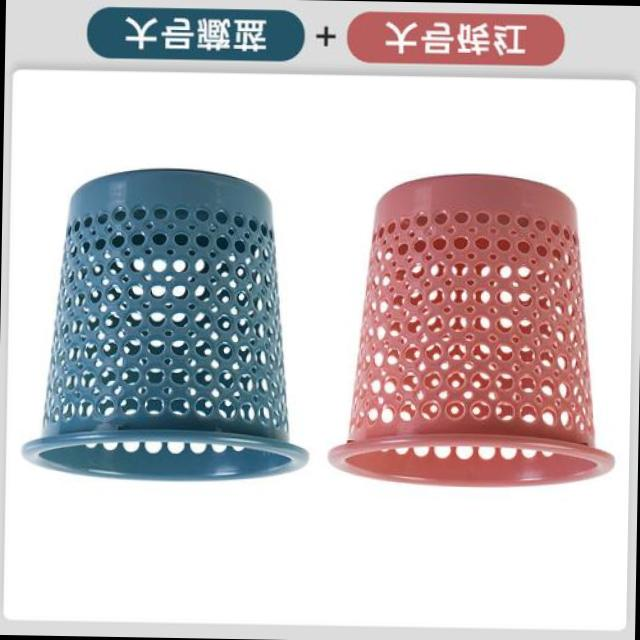dustbin: (319, 160, 625, 490), (18, 160, 314, 498)
